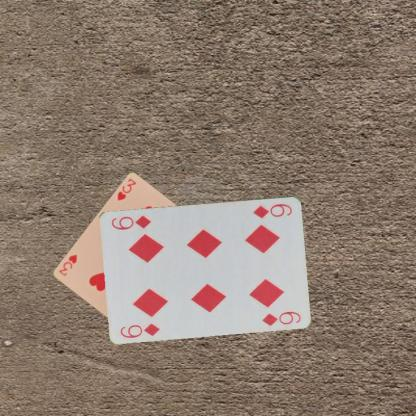3h: (114, 176, 138, 202)
6d: (250, 200, 294, 219), (118, 320, 161, 339)
